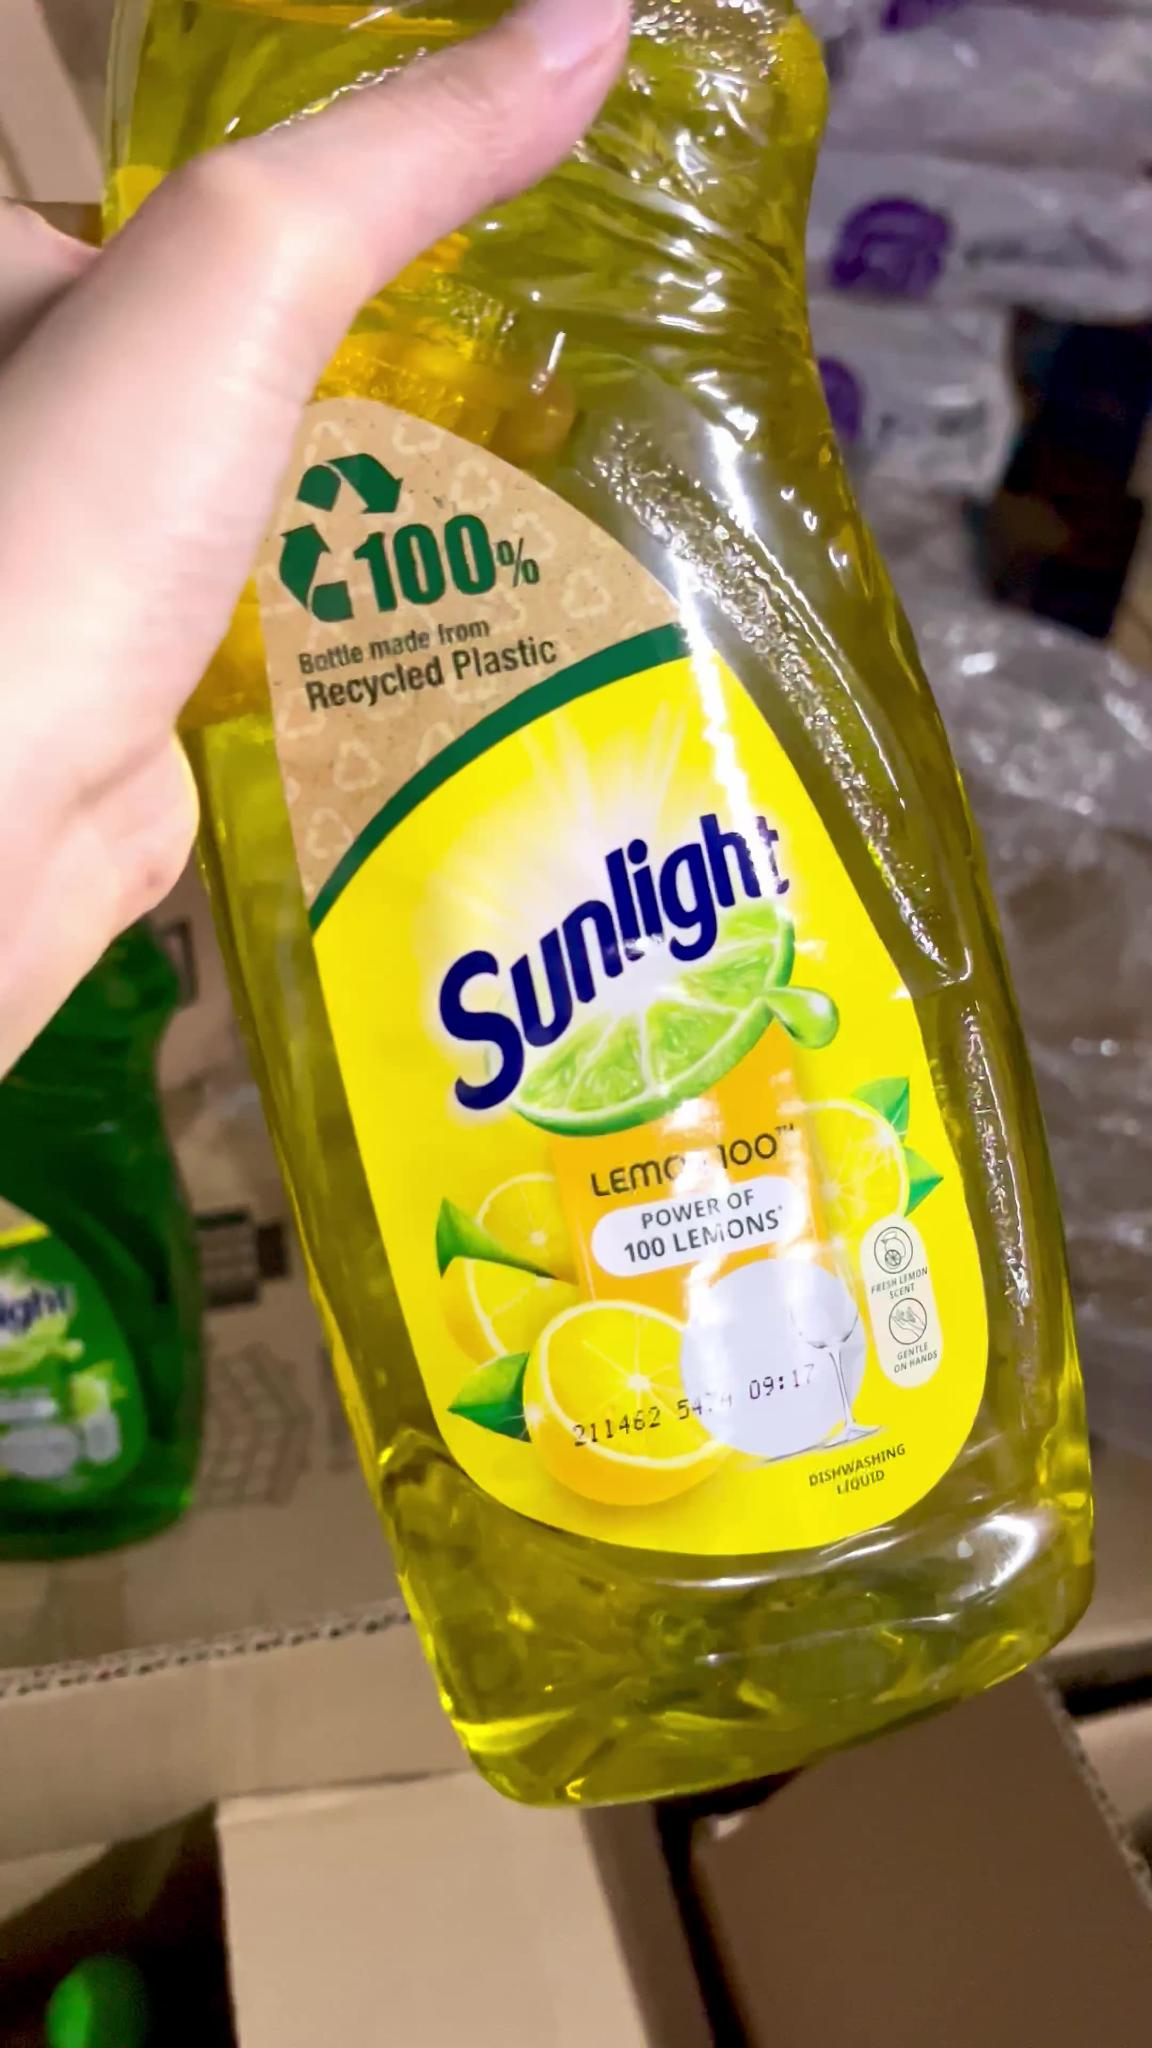plastic: (111, 0, 1092, 1803)
